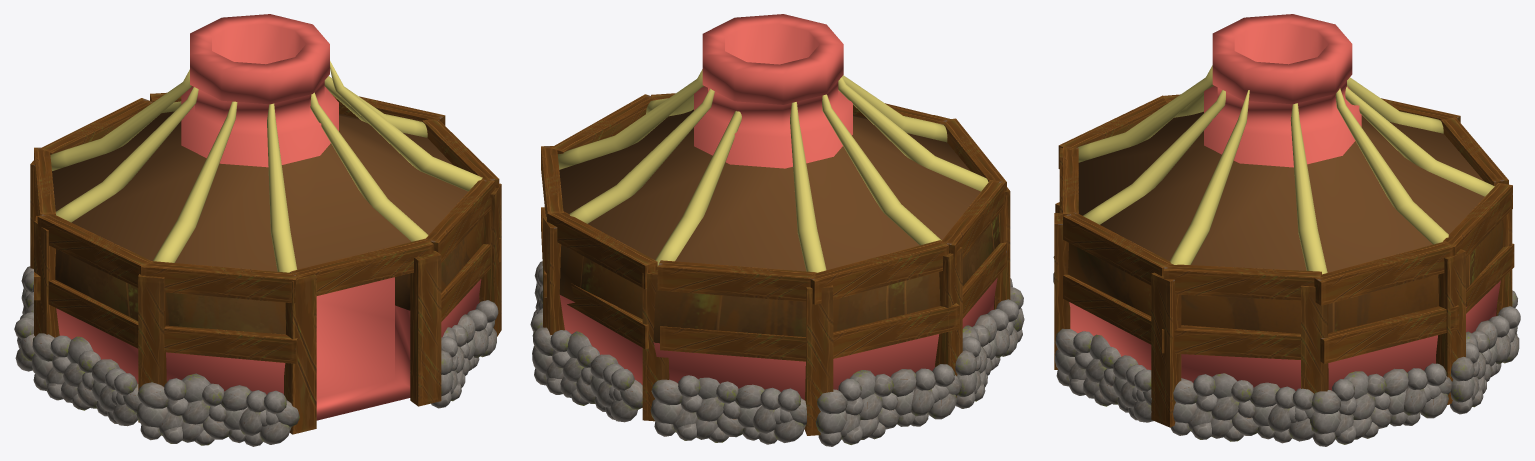
File: Shaman_Hut.fbx
3 renders of one model, left to right at view 1: azimuth 30°, elevation 25°; view 2: azimuth 150°, elevation 25°; view 3: azimuth 270°, elevation 25°, orthographic.
Visible parts, largest first — view 1: Cylinder.010; view 2: Cylinder.010; view 3: Cylinder.010.
Part boxes in pixels (<box>): Cylinder.010: <box>14,14,501,446</box>; Cylinder.010: <box>530,14,1024,446</box>; Cylinder.010: <box>1053,14,1520,446</box>.
Size of the model in its own units: 677 by 470 by 645.
